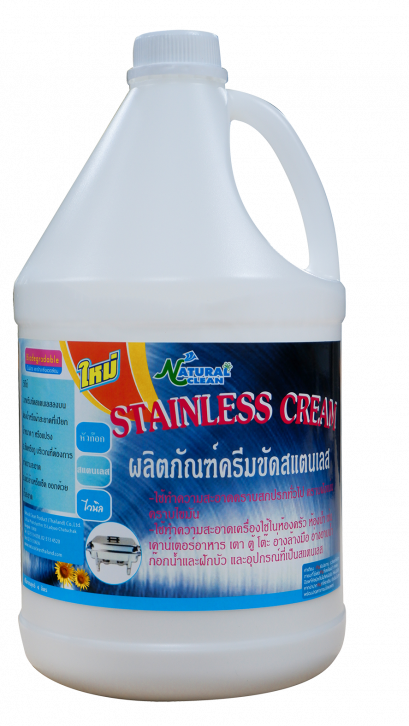Cleaning_solution: (12, 24, 353, 706)
